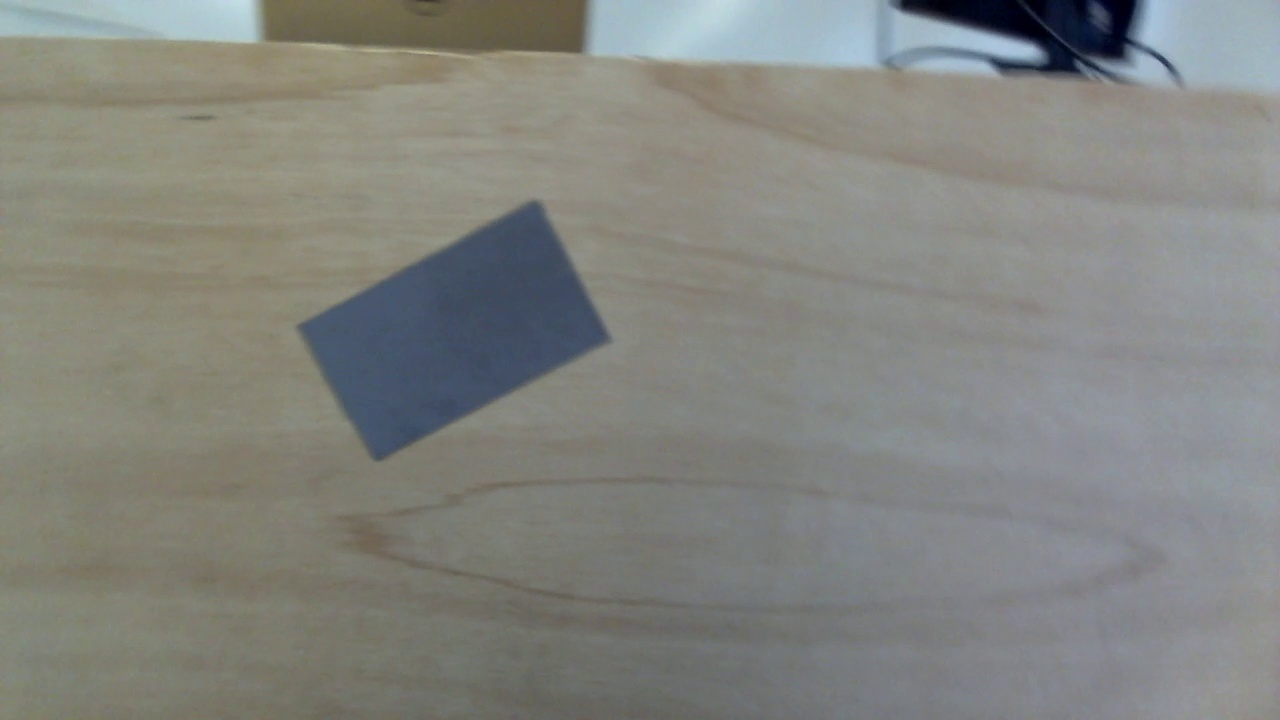Tape: (294, 202, 615, 458)
